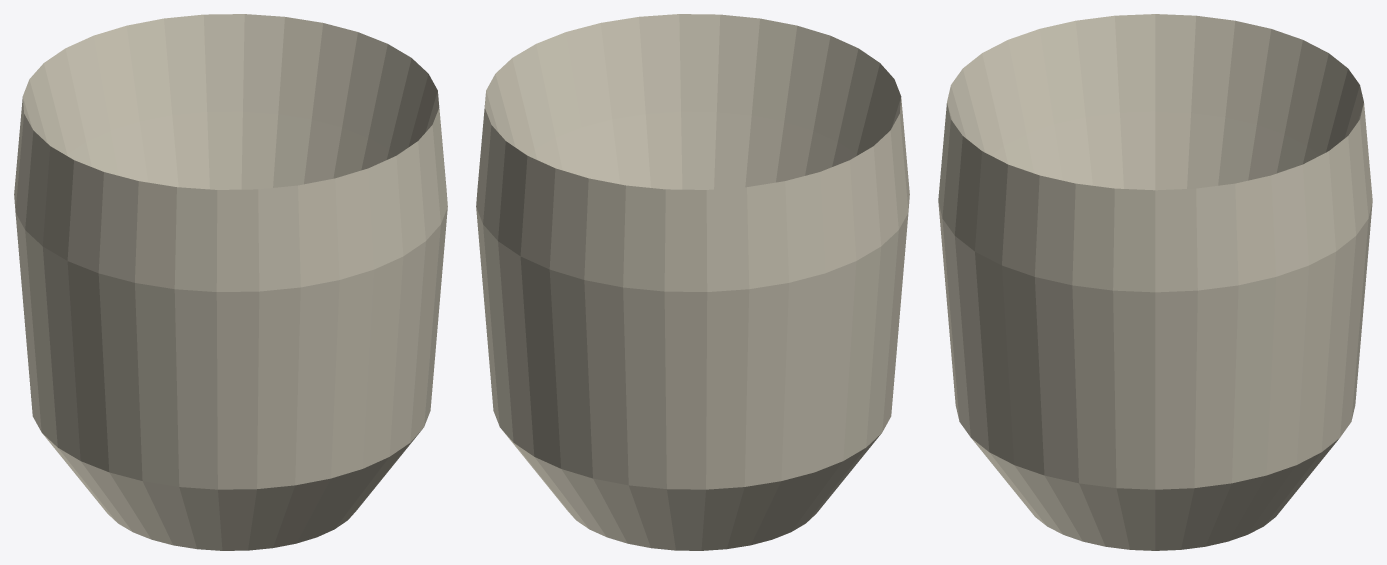
File: panel_fragment_tableware.fbx
The picture shows the model from 3 angles, left to right: view 1: azimuth 30°, elevation 25°; view 2: azimuth 150°, elevation 25°; view 3: azimuth 270°, elevation 25°; orthographic projection.
Parts seen in each view (by area): view 1: Part_0; view 2: Part_0; view 3: Part_0.
Boxes of the visible parts, box(x1,y1,x2,y2) form: Part_0: box(14, 14, 447, 550); Part_0: box(476, 14, 909, 550); Part_0: box(938, 14, 1372, 550).
Size of the model in its own units: 1 by 1 by 1.
